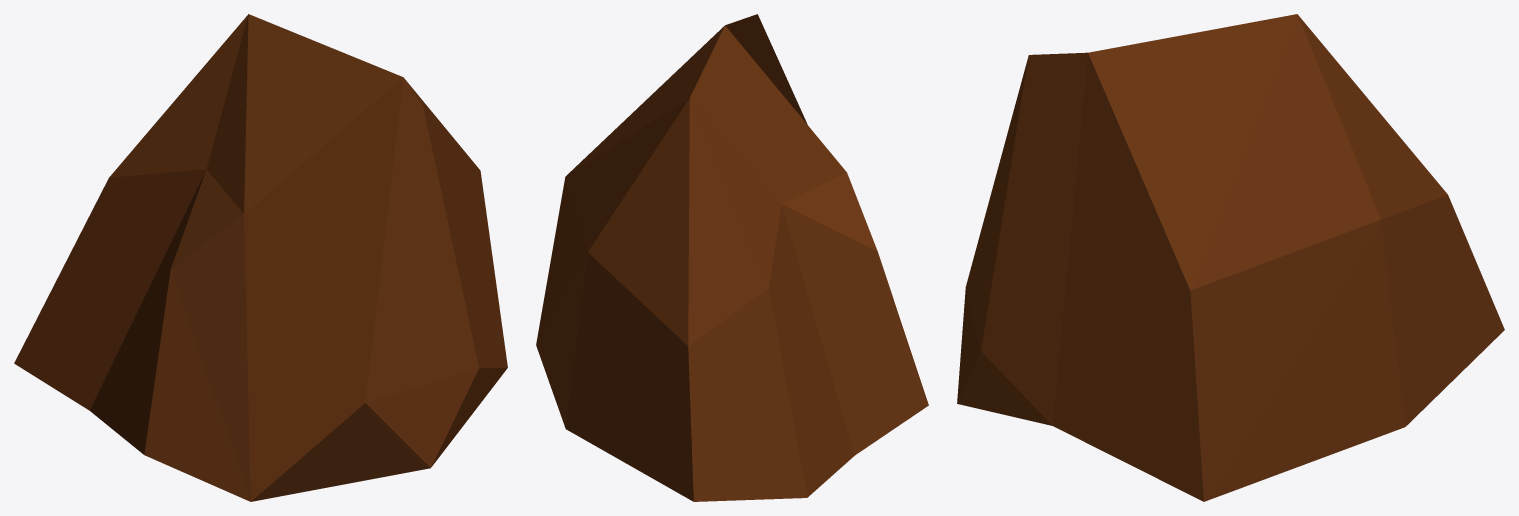
Rendered from roca_2.FBX.
3 renders of one model, left to right at view 1: azimuth 30°, elevation 25°; view 2: azimuth 150°, elevation 25°; view 3: azimuth 270°, elevation 25°, orthographic. The views are drawn at different scales.
Visible parts, largest first — view 1: Sphere005; view 2: Sphere005; view 3: Sphere005.
Part boxes in pixels (bbox=[...]): Sphere005: bbox=[14, 14, 507, 501]; Sphere005: bbox=[536, 14, 928, 501]; Sphere005: bbox=[957, 14, 1504, 501].
Size of the model in its own units: 1.74 by 1.6 by 1.95.
